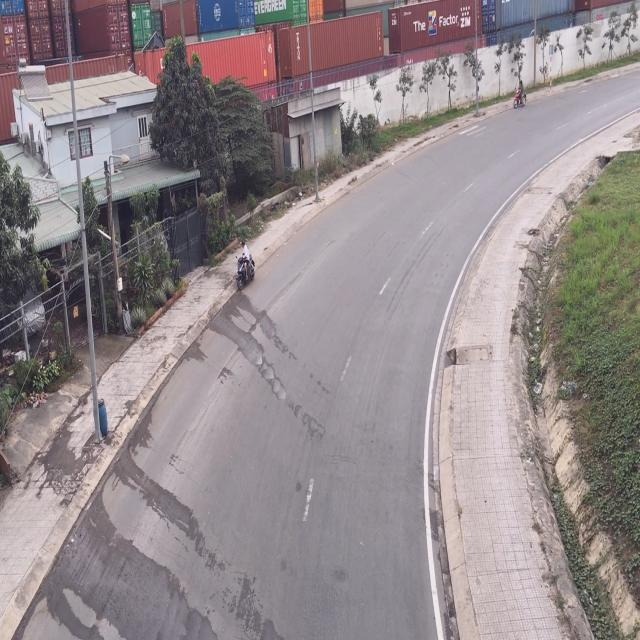motorbike: (236, 244, 256, 292), (514, 73, 529, 114)
